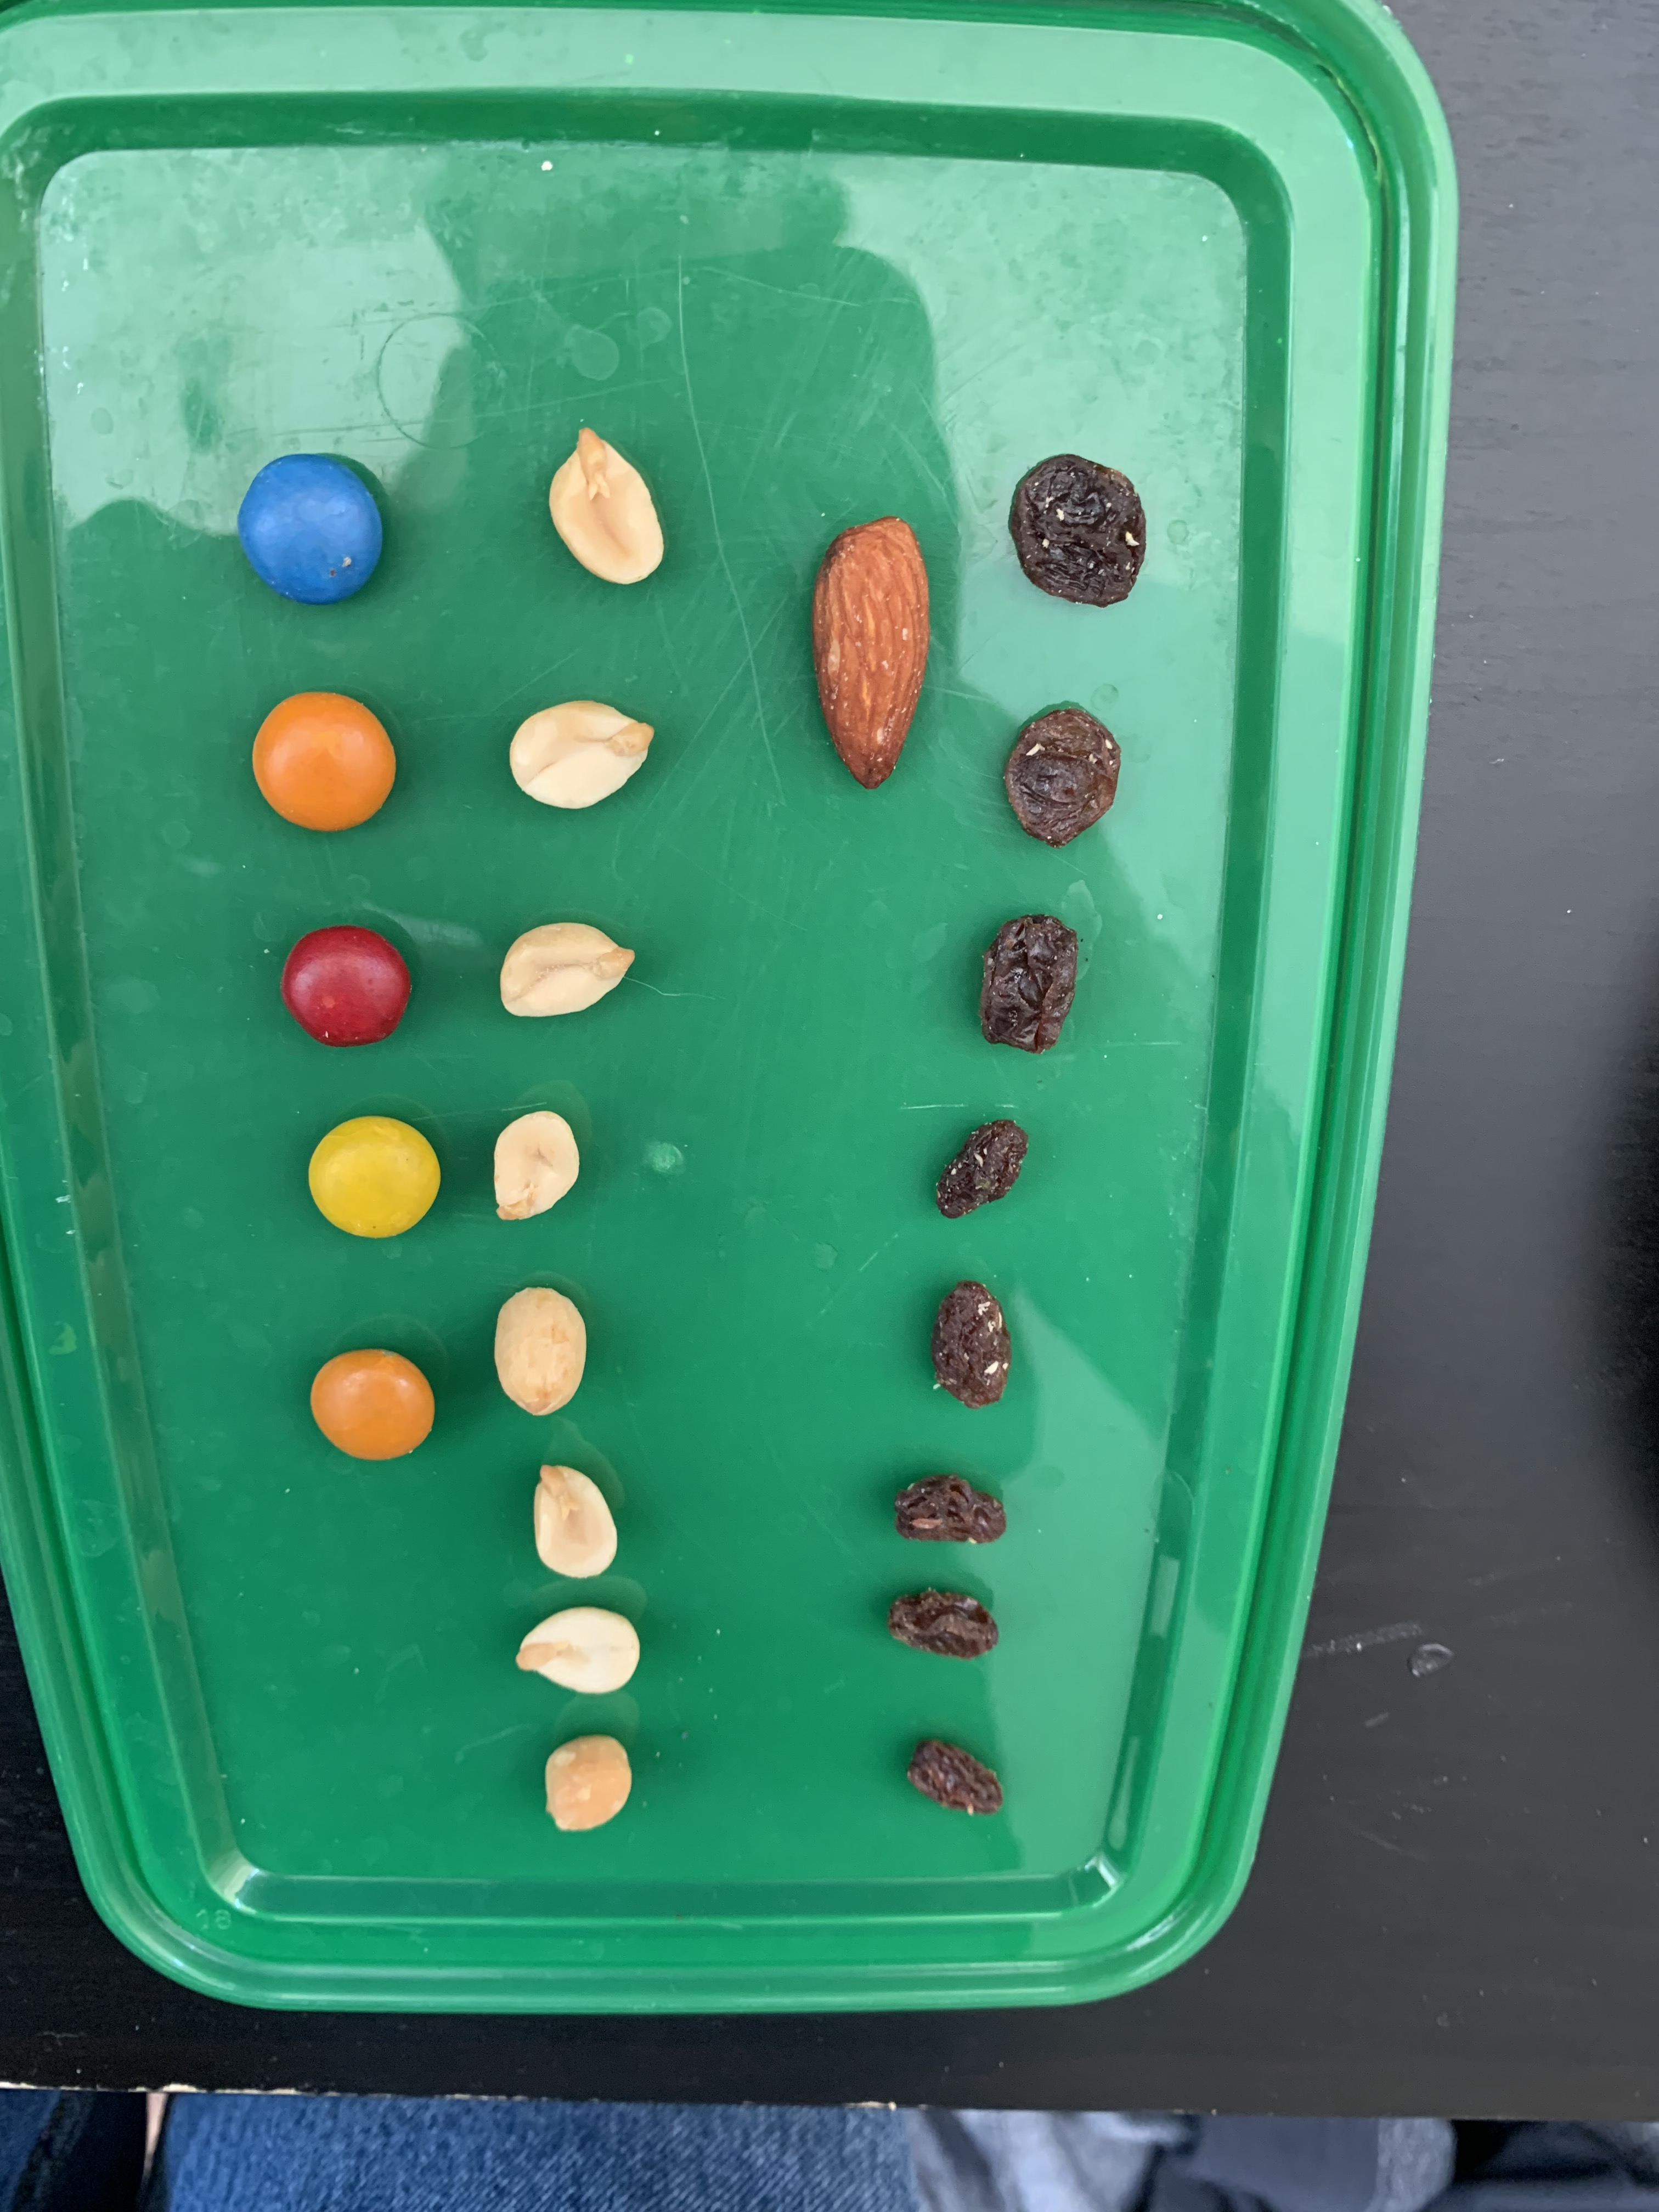almond: (814, 516, 934, 792)
mm: (235, 451, 382, 604), (251, 690, 401, 834), (307, 1115, 444, 1240), (279, 923, 410, 1047), (307, 1348, 436, 1461)
peanut: (547, 427, 666, 587), (507, 697, 655, 812), (497, 920, 638, 1019), (493, 1285, 589, 1418), (514, 1604, 641, 1691), (532, 1463, 619, 1580), (491, 1111, 582, 1221), (540, 1733, 634, 1831)
raisin: (1011, 453, 1148, 608), (1006, 707, 1124, 845), (979, 914, 1080, 1055), (931, 1280, 1014, 1409), (936, 1118, 1030, 1217), (903, 1735, 1007, 1815), (894, 1474, 1007, 1545), (887, 1588, 1000, 1660)
